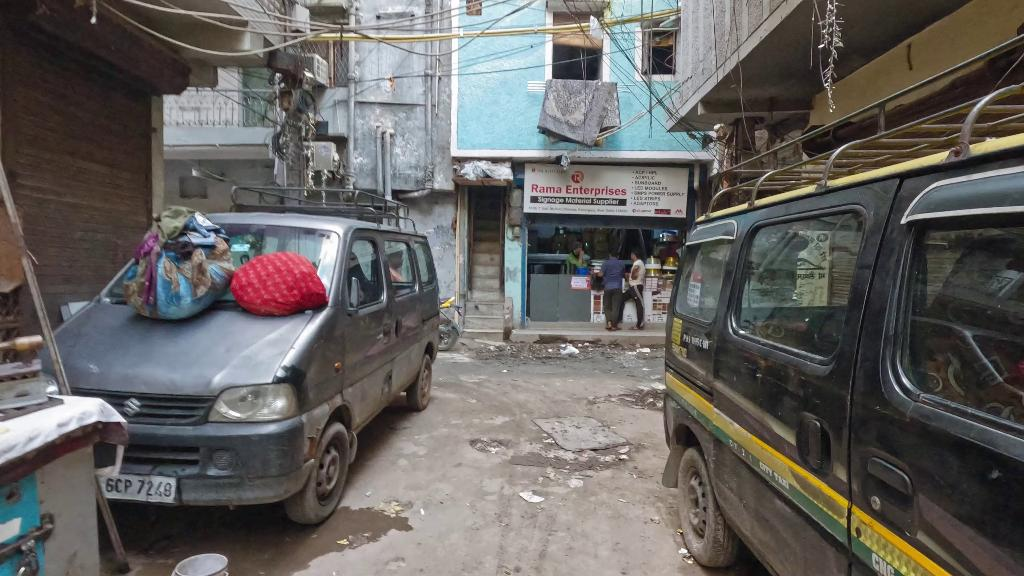garbage: (590, 15, 605, 41), (560, 345, 581, 356)
